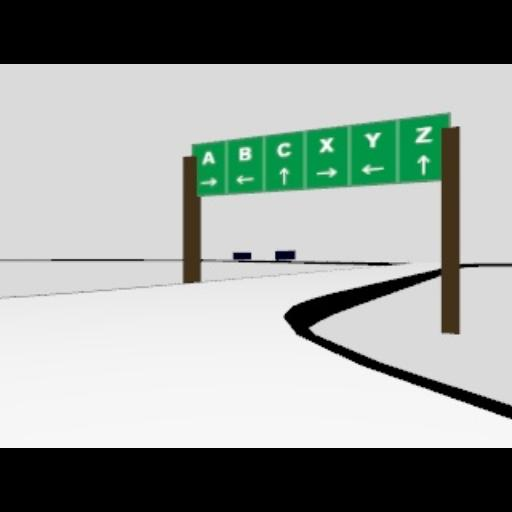A: (202, 151, 214, 165)
B: (238, 147, 252, 161)
C: (276, 141, 292, 157)
Left: (359, 163, 385, 175), (236, 174, 254, 184)
Right: (315, 166, 337, 178), (198, 176, 218, 188)
Straight: (416, 154, 432, 176), (278, 166, 290, 186)
X: (318, 136, 336, 154)
Y: (364, 132, 382, 148)
Z: (414, 127, 436, 145)
